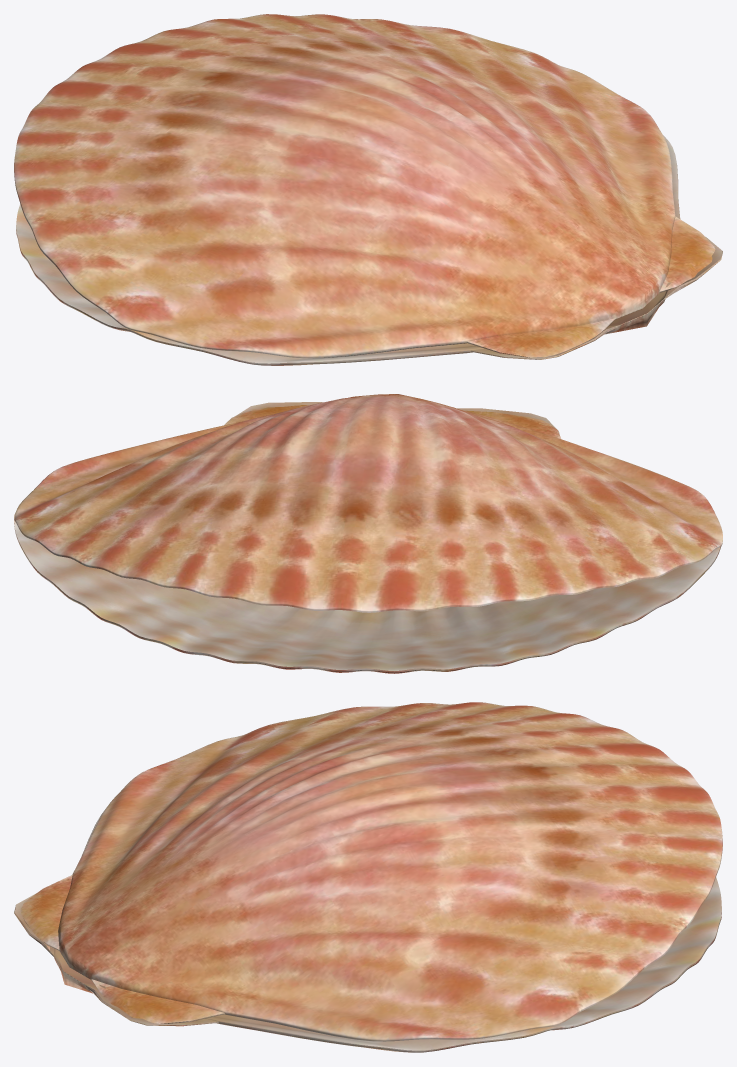
3 views of the same model, one above another, from view 1: azimuth 30°, elevation 25°; view 2: azimuth 150°, elevation 25°; view 3: azimuth 270°, elevation 25° (orthographic). The views are drawn at different scales.
Parts seen in each view (by area): view 1: shell_upper1, shell_upper; view 2: shell_upper1, shell_upper; view 3: shell_upper1, shell_upper.
Boxes of the visible parts, bbox=[...] form: shell_upper1: bbox=[14, 14, 715, 358]; shell_upper: bbox=[16, 135, 722, 365]; shell_upper1: bbox=[14, 394, 722, 612]; shell_upper: bbox=[14, 402, 720, 673]; shell_upper1: bbox=[20, 702, 722, 1041]; shell_upper: bbox=[14, 811, 721, 1052].
Size of the model in its own units: 85.63 by 26.18 by 83.67.
Materials: 1 (1 with a texture image).
